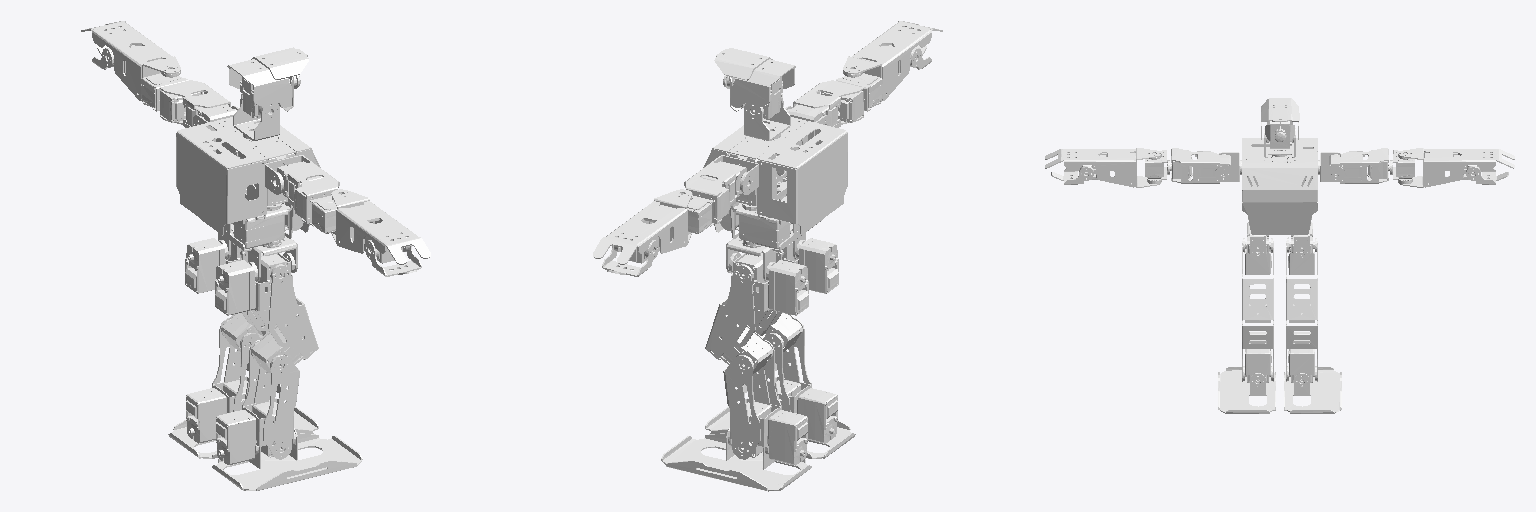
--- What the picture shows (computed from the rendered views, not written in the file) ---
The picture shows the robot from 3 angles, left to right: view 1: azimuth 30°, elevation 25°; view 2: azimuth 150°, elevation 25°; view 3: azimuth 270°, elevation 25°; orthographic projection.
Robot: ainex — 28 links, 27 joints (24 revolute, 3 fixed); root link base_link; default pose: all joints at 0.
Visible links, largest first — view 1: body_link, r_ank_roll_link, r_hip_pitch_link, r_el_yaw_link, head_tilt_link, r_knee_link, l_el_yaw_link, r_hip_roll_link, r_ank_pitch_link, l_sho_roll_link, l_ank_pitch_link, r_sho_roll_link (+10 smaller); view 2: body_link, l_ank_roll_link, l_hip_pitch_link, l_el_yaw_link, head_tilt_link, l_knee_link, r_el_yaw_link, l_hip_roll_link, l_ank_pitch_link, r_sho_roll_link, r_ank_pitch_link, l_sho_roll_link (+10 smaller); view 3: body_link, r_el_yaw_link, l_el_yaw_link, r_ank_roll_link, l_ank_roll_link, l_sho_roll_link, r_sho_roll_link, head_tilt_link, r_hip_pitch_link, l_hip_pitch_link, l_ank_pitch_link, r_ank_pitch_link (+8 smaller).
Link boxes in pixels (<box>): body_link: <box>176,117,320,251</box>; r_ank_roll_link: <box>212,428,362,490</box>; r_hip_pitch_link: <box>247,264,318,373</box>; r_el_yaw_link: <box>331,189,430,264</box>; head_tilt_link: <box>227,47,308,118</box>; r_knee_link: <box>242,340,299,459</box>; l_el_yaw_link: <box>81,21,180,106</box>; r_hip_roll_link: <box>215,253,292,315</box>; r_ank_pitch_link: <box>216,398,293,464</box>; l_sho_roll_link: <box>160,80,235,127</box>; l_ank_pitch_link: <box>186,376,248,443</box>; r_sho_roll_link: <box>277,161,339,223</box>; body_link: <box>703,117,847,251</box>; l_ank_roll_link: <box>661,428,811,491</box>; l_hip_pitch_link: <box>705,264,776,373</box>; l_el_yaw_link: <box>593,189,692,264</box>; head_tilt_link: <box>714,48,795,118</box>; l_knee_link: <box>723,340,781,459</box>; r_el_yaw_link: <box>843,21,942,106</box>; l_hip_roll_link: <box>731,253,808,315</box>; l_ank_pitch_link: <box>730,398,807,465</box>; r_sho_roll_link: <box>788,80,863,127</box>; r_ank_pitch_link: <box>775,377,837,443</box>; l_sho_roll_link: <box>684,161,746,223</box>; body_link: <box>1242,138,1317,234</box>; r_el_yaw_link: <box>1045,148,1161,187</box>; l_el_yaw_link: <box>1398,148,1514,187</box>; r_ank_roll_link: <box>1218,367,1275,413</box>; l_ank_roll_link: <box>1284,367,1341,413</box>; l_sho_roll_link: <box>1329,148,1388,183</box>; r_sho_roll_link: <box>1171,148,1230,183</box>; head_tilt_link: <box>1261,98,1299,148</box>; r_hip_pitch_link: <box>1242,238,1273,322</box>; l_hip_pitch_link: <box>1286,237,1317,322</box>; l_ank_pitch_link: <box>1288,332,1314,382</box>; r_ank_pitch_link: <box>1245,332,1271,382</box>.
Bounding box of the posed robot: 0.1394 × 0.6195 × 0.4144 m (x, y, z).
Meshes: 25 distinct files referenced, 25 mesh visuals loaded (25 binary STL).

URDF robot description (ainex):
<?xml version="1.0" ?>
<!-- =================================================================================== -->
<!-- |    This document was autogenerated by xacro from src/ainex_simulations/ainex_description/urdf/ainex.urdf.xacro | -->
<!-- |    EDITING THIS FILE BY HAND IS NOT RECOMMENDED                                 | -->
<!-- =================================================================================== -->
<robot name="ainex">
  <material name="black">
    <color rgba="0.1 0.1 0.1 1.0"/>
  </material>
  <material name="blue">
    <color rgba="0.0 0.0 0.8 1.0"/>
  </material>
  <material name="green">
    <color rgba="0.4 0.9 0.4 1.0"/>
  </material>
  <material name="gray">
    <color rgba="0.7 0.7 0.7 1.0"/>
  </material>
  <material name="darkgray">
    <color rgba="0.3 0.3 0.3 1.0"/>
  </material>
  <material name="red">
    <color rgba="0.8 0.0 0.0 1.0"/>
  </material>
  <material name="white">
    <color rgba="1.0 1.0 1.0 1.0"/>
  </material>
  <material name="yellow">
    <color rgba="0.8 0.8 0.0 1.0"/>
  </material>
  <transmission name="l_hip_roll_tran">
    <type>transmission_interface/SimpleTransmission</type>
    <joint name="l_hip_roll">
      <hardwareInterface>hardware_interface/EffortJointInterface</hardwareInterface>
    </joint>
    <actuator name="l_hip_roll_motor">
      <hardwareInterface>hardware_interface/EffortJointInterface</hardwareInterface>
      <mechanicalReduction>1</mechanicalReduction>
    </actuator>
  </transmission>
  <transmission name="l_hip_pitch_tran">
    <type>transmission_interface/SimpleTransmission</type>
    <joint name="l_hip_pitch">
      <hardwareInterface>hardware_interface/EffortJointInterface</hardwareInterface>
    </joint>
    <actuator name="l_hip_pitch_motor">
      <hardwareInterface>hardware_interface/EffortJointInterface</hardwareInterface>
      <mechanicalReduction>1</mechanicalReduction>
    </actuator>
  </transmission>
  <transmission name="r_hip_roll_tran">
    <type>transmission_interface/SimpleTransmission</type>
    <joint name="r_hip_roll">
      <hardwareInterface>hardware_interface/EffortJointInterface</hardwareInterface>
    </joint>
    <actuator name="r_hip_roll_motor">
      <hardwareInterface>hardware_interface/EffortJointInterface</hardwareInterface>
      <mechanicalReduction>1</mechanicalReduction>
    </actuator>
  </transmission>
  <transmission name="r_hip_pitch_tran">
    <type>transmission_interface/SimpleTransmission</type>
    <joint name="r_hip_pitch">
      <hardwareInterface>hardware_interface/EffortJointInterface</hardwareInterface>
    </joint>
    <actuator name="r_hip_pitch_motor">
      <hardwareInterface>hardware_interface/EffortJointInterface</hardwareInterface>
      <mechanicalReduction>1</mechanicalReduction>
    </actuator>
  </transmission>
  <transmission name="l_hip_yaw_tran">
    <type>transmission_interface/SimpleTransmission</type>
    <joint name="l_hip_yaw">
      <hardwareInterface>hardware_interface/EffortJointInterface</hardwareInterface>
    </joint>
    <actuator name="l_hip_yaw_motor">
      <hardwareInterface>hardware_interface/EffortJointInterface</hardwareInterface>
      <mechanicalReduction>1</mechanicalReduction>
    </actuator>
  </transmission>
  <transmission name="r_hip_yaw_tran">
    <type>transmission_interface/SimpleTransmission</type>
    <joint name="r_hip_yaw">
      <hardwareInterface>hardware_interface/EffortJointInterface</hardwareInterface>
    </joint>
    <actuator name="r_hip_yaw_motor">
      <hardwareInterface>hardware_interface/EffortJointInterface</hardwareInterface>
      <mechanicalReduction>1</mechanicalReduction>
    </actuator>
  </transmission>
  <transmission name="l_knee_tran">
    <type>transmission_interface/SimpleTransmission</type>
    <joint name="l_knee">
      <hardwareInterface>hardware_interface/EffortJointInterface</hardwareInterface>
    </joint>
    <actuator name="l_knee_motor">
      <hardwareInterface>hardware_interface/EffortJointInterface</hardwareInterface>
      <mechanicalReduction>1</mechanicalReduction>
    </actuator>
  </transmission>
  <transmission name="l_ank_pitch_tran">
    <type>transmission_interface/SimpleTransmission</type>
    <joint name="l_ank_pitch">
      <hardwareInterface>hardware_interface/EffortJointInterface</hardwareInterface>
    </joint>
    <actuator name="l_ank_pitch_motor">
      <hardwareInterface>hardware_interface/EffortJointInterface</hardwareInterface>
      <mechanicalReduction>1</mechanicalReduction>
    </actuator>
  </transmission>
  <transmission name="l_ank_roll_tran">
    <type>transmission_interface/SimpleTransmission</type>
    <joint name="l_ank_roll">
      <hardwareInterface>hardware_interface/EffortJointInterface</hardwareInterface>
    </joint>
    <actuator name="l_ank_roll_motor">
      <hardwareInterface>hardware_interface/EffortJointInterface</hardwareInterface>
      <mechanicalReduction>1</mechanicalReduction>
    </actuator>
  </transmission>
  <transmission name="r_knee_tran">
    <type>transmission_interface/SimpleTransmission</type>
    <joint name="r_knee">
      <hardwareInterface>hardware_interface/EffortJointInterface</hardwareInterface>
    </joint>
    <actuator name="r_knee_motor">
      <hardwareInterface>hardware_interface/EffortJointInterface</hardwareInterface>
      <mechanicalReduction>1</mechanicalReduction>
    </actuator>
  </transmission>
  <transmission name="r_ank_pitch_tran">
    <type>transmission_interface/SimpleTransmission</type>
    <joint name="r_ank_pitch">
      <hardwareInterface>hardware_interface/EffortJointInterface</hardwareInterface>
    </joint>
    <actuator name="r_ank_pitch_motor">
      <hardwareInterface>hardware_interface/EffortJointInterface</hardwareInterface>
      <mechanicalReduction>1</mechanicalReduction>
    </actuator>
  </transmission>
  <transmission name="r_ank_roll_tran">
    <type>transmission_interface/SimpleTransmission</type>
    <joint name="r_ank_roll">
      <hardwareInterface>hardware_interface/EffortJointInterface</hardwareInterface>
    </joint>
    <actuator name="r_ank_roll_motor">
      <hardwareInterface>hardware_interface/EffortJointInterface</hardwareInterface>
      <mechanicalReduction>1</mechanicalReduction>
    </actuator>
  </transmission>
  <transmission name="l_sho_roll_tran">
    <type>transmission_interface/SimpleTransmission</type>
    <joint name="l_sho_roll">
      <hardwareInterface>hardware_interface/EffortJointInterface</hardwareInterface>
    </joint>
    <actuator name="l_sho_roll_motor">
      <hardwareInterface>hardware_interface/EffortJointInterface</hardwareInterface>
      <mechanicalReduction>1</mechanicalReduction>
    </actuator>
  </transmission>
  <transmission name="l_sho_pitch_tran">
    <type>transmission_interface/SimpleTransmission</type>
    <joint name="l_sho_pitch">
      <hardwareInterface>hardware_interface/EffortJointInterface</hardwareInterface>
    </joint>
    <actuator name="l_sho_pitch_motor">
      <hardwareInterface>hardware_interface/EffortJointInterface</hardwareInterface>
      <mechanicalReduction>1</mechanicalReduction>
    </actuator>
  </transmission>
  <transmission name="r_sho_roll_tran">
    <type>transmission_interface/SimpleTransmission</type>
    <joint name="r_sho_roll">
      <hardwareInterface>hardware_interface/EffortJointInterface</hardwareInterface>
    </joint>
    <actuator name="r_sho_roll_motor">
      <hardwareInterface>hardware_interface/EffortJointInterface</hardwareInterface>
      <mechanicalReduction>1</mechanicalReduction>
    </actuator>
  </transmission>
  <transmission name="r_sho_pitch_tran">
    <type>transmission_interface/SimpleTransmission</type>
    <joint name="r_sho_pitch">
      <hardwareInterface>hardware_interface/EffortJointInterface</hardwareInterface>
    </joint>
    <actuator name="r_sho_pitch_motor">
      <hardwareInterface>hardware_interface/EffortJointInterface</hardwareInterface>
      <mechanicalReduction>1</mechanicalReduction>
    </actuator>
  </transmission>
  <transmission name="l_el_yaw_tran">
    <type>transmission_interface/SimpleTransmission</type>
    <joint name="l_el_yaw">
      <hardwareInterface>hardware_interface/EffortJointInterface</hardwareInterface>
    </joint>
    <actuator name="l_el_yaw_motor">
      <hardwareInterface>hardware_interface/EffortJointInterface</hardwareInterface>
      <mechanicalReduction>1</mechanicalReduction>
    </actuator>
  </transmission>
  <transmission name="r_el_yaw_tran">
    <type>transmission_interface/SimpleTransmission</type>
    <joint name="r_el_yaw">
      <hardwareInterface>hardware_interface/EffortJointInterface</hardwareInterface>
    </joint>
    <actuator name="r_el_yaw_motor">
      <hardwareInterface>hardware_interface/EffortJointInterface</hardwareInterface>
      <mechanicalReduction>1</mechanicalReduction>
    </actuator>
  </transmission>
  <transmission name="l_el_pitch_tran">
    <type>transmission_interface/SimpleTransmission</type>
    <joint name="l_el_pitch">
      <hardwareInterface>hardware_interface/EffortJointInterface</hardwareInterface>
    </joint>
    <actuator name="l_el_pitch_motor">
      <hardwareInterface>hardware_interface/EffortJointInterface</hardwareInterface>
      <mechanicalReduction>1</mechanicalReduction>
    </actuator>
  </transmission>
  <transmission name="l_gripper_tran">
    <type>transmission_interface/SimpleTransmission</type>
    <joint name="l_gripper">
      <hardwareInterface>hardware_interface/EffortJointInterface</hardwareInterface>
    </joint>
    <actuator name="l_gripper_motor">
      <hardwareInterface>hardware_interface/EffortJointInterface</hardwareInterface>
      <mechanicalReduction>1</mechanicalReduction>
    </actuator>
  </transmission>
  <transmission name="r_el_pitch_tran">
    <type>transmission_interface/SimpleTransmission</type>
    <joint name="r_el_pitch">
      <hardwareInterface>hardware_interface/EffortJointInterface</hardwareInterface>
    </joint>
    <actuator name="r_el_pitch_motor">
      <hardwareInterface>hardware_interface/EffortJointInterface</hardwareInterface>
      <mechanicalReduction>1</mechanicalReduction>
    </actuator>
  </transmission>
  <transmission name="r_gripper_tran">
    <type>transmission_interface/SimpleTransmission</type>
    <joint name="r_gripper">
      <hardwareInterface>hardware_interface/EffortJointInterface</hardwareInterface>
    </joint>
    <actuator name="r_gripper_motor">
      <hardwareInterface>hardware_interface/EffortJointInterface</hardwareInterface>
      <mechanicalReduction>1</mechanicalReduction>
    </actuator>
  </transmission>
  <transmission name="head_pan_tran">
    <type>transmission_interface/SimpleTransmission</type>
    <joint name="head_pan">
      <hardwareInterface>hardware_interface/EffortJointInterface</hardwareInterface>
    </joint>
    <actuator name="head_pan_motor">
      <hardwareInterface>hardware_interface/EffortJointInterface</hardwareInterface>
      <mechanicalReduction>1</mechanicalReduction>
    </actuator>
  </transmission>
  <transmission name="head_tilt_tran">
    <type>transmission_interface/SimpleTransmission</type>
    <joint name="head_tilt">
      <hardwareInterface>hardware_interface/EffortJointInterface</hardwareInterface>
    </joint>
    <actuator name="head_tilt_motor">
      <hardwareInterface>hardware_interface/EffortJointInterface</hardwareInterface>
      <mechanicalReduction>1</mechanicalReduction>
    </actuator>
  </transmission>
  <link name="base_link"/>
  <joint name="base_link_to_body" type="fixed">
    <parent link="base_link"/>
    <child link="body_link"/>
  </joint>
  <link name="body_link">
    <inertial>
      <origin rpy="0 0 0" xyz="0.00394313682998006 -7.92910841109997E-05 0.0504544952747596"/>
      <mass value="0.743"/>
      <inertia ixx="0.00121619" ixy="0.00000248" ixz="-0.00005348" iyy="0.00104402" iyz="-0.00000200" izz="0.00108564"/>
    </inertial>
    <visual>
      <origin rpy="0 0 0" xyz="0 0 0"/>
      <geometry>
        <mesh filename="package://ainex_description/meshes/body_link.STL"/>
      </geometry>
      <material name="white"/>
    </visual>
    <collision>
      <origin rpy="0 0 0" xyz="0 0 0"/>
      <geometry>
        <mesh filename="package://ainex_description/meshes/body_link.STL"/>
      </geometry>
    </collision>
  </link>
  <link name="r_hip_yaw_link">
    <inertial>
      <origin rpy="0 0 0" xyz="-3.08089321559763E-05 0.0012572746209485 -0.00137106654438882"/>
      <mass value="0.032"/>
      <inertia ixx="0.00001756" ixy="-0.00000028" ixz="-0.00000033" iyy="0.00002270" iyz="0.00000092" izz="0.00000905"/>
    </inertial>
    <visual>
      <origin rpy="0 0 0" xyz="0 0 0"/>
      <geometry>
        <mesh filename="package://ainex_description/meshes/r_hip_yaw_link.STL"/>
      </geometry>
      <material name="white"/>
    </visual>
    <collision>
      <origin rpy="0 0 0" xyz="0 0 0"/>
      <geometry>
        <mesh filename="package://ainex_description/meshes/r_hip_yaw_link.STL"/>
      </geometry>
    </collision>
  </link>
  <joint name="r_hip_yaw" type="revolute">
    <origin rpy="0 0 0" xyz="0 -0.029 0"/>
    <parent link="body_link"/>
    <child link="r_hip_yaw_link"/>
    <axis xyz="0 0 -1"/>
    <limit effort="6" lower="-2.09" upper="2.09" velocity="100"/>
    <dynamics damping="0.02" friction="0.0"/>
  </joint>
  <link name="r_hip_roll_link">
    <inertial>
      <origin rpy="0 0 0" xyz="0.00136240189123019 -0.000566876191787073 -0.0134186815024998"/>
      <mass value="0.120"/>
      <inertia ixx="0.00002918" ixy="-0.00000090" ixz="-0.00000045" iyy="0.00007310" iyz="0.00000000" izz="0.00006050"/>
    </inertial>
    <visual>
      <origin rpy="0 0 0" xyz="0 0 0"/>
      <geometry>
        <mesh filename="package://ainex_description/meshes/r_hip_roll_link.STL"/>
      </geometry>
      <material name="white"/>
    </visual>
    <collision>
      <origin rpy="0 0 0" xyz="0 0 0"/>
      <geometry>
        <mesh filename="package://ainex_description/meshes/r_hip_roll_link.STL"/>
      </geometry>
    </collision>
  </link>
  <joint name="r_hip_roll" type="revolute">
    <origin rpy="0 0 0" xyz="-0.01955 0 -0.0255"/>
    <parent link="r_hip_yaw_link"/>
    <child link="r_hip_roll_link"/>
    <axis xyz="-1 0 0"/>
    <limit effort="6" lower="-2.09" upper="2.09" velocity="100"/>
    <dynamics damping="0.02" friction="0.0"/>
  </joint>
  <link name="r_hip_pitch_link">
    <inertial>
      <origin rpy="0 0 0" xyz="0.0135944229510165 0.0193812364621979 -0.0727053786154678"/>
      <mass value="0.1065"/>
      <inertia ixx="0.00011009" ixy="0.00000025" ixz="-0.00000822" iyy="0.00011292" iyz="0.00000058" izz="0.00004163"/>
    </inertial>
    <visual>
      <origin rpy="0 0 0" xyz="0 0 0"/>
      <geometry>
        <mesh filename="package://ainex_description/meshes/r_hip_pitch_link.STL"/>
      </geometry>
      <material name="white"/>
    </visual>
    <collision>
      <origin rpy="0 0 0" xyz="0 0 0"/>
      <geometry>
        <mesh filename="package://ainex_description/meshes/r_hip_pitch_link.STL"/>
      </geometry>
    </collision>
  </link>
  <joint name="r_hip_pitch" type="revolute">
    <origin rpy="0 0 0" xyz="0.0190366011774447 -0.0200000000007891 0"/>
    <parent link="r_hip_roll_link"/>
    <child link="r_hip_pitch_link"/>
    <axis xyz="0 -1 0"/>
    <limit effort="6" lower="-2.09" upper="2.09" velocity="100"/>
    <dynamics damping="0.02" friction="0.0"/>
  </joint>
  <link name="r_knee_link">
    <inertial>
      <origin rpy="0 0 0" xyz="0.00334266052421815 0.0196473707822286 -0.0425048961212657"/>
      <mass value="0.045"/>
      <inertia ixx="0.00006733" ixy="0.00000005" ixz="0.00000285" iyy="0.00005500" iyz="0.00000000" izz="0.00002073"/>
    </inertial>
    <visual>
      <origin rpy="0 0 0" xyz="0 0 0"/>
      <geometry>
        <mesh filename="package://ainex_description/meshes/r_knee_link.STL"/>
      </geometry>
      <material name="white"/>
    </visual>
    <collision>
      <origin rpy="0 0 0" xyz="0 0 0"/>
      <geometry>
        <mesh filename="package://ainex_description/meshes/r_knee_link.STL"/>
      </geometry>
    </collision>
  </link>
  <joint name="r_knee" type="revolute">
    <origin rpy="0 0 0" xyz="-0.000372039419212393 4.99999999942422E-05 -0.0968862318156413"/>
    <parent link="r_hip_pitch_link"/>
    <child link="r_knee_link"/>
    <axis xyz="0 -1 0"/>
    <limit effort="6" lower="-2.09" upper="2.09" velocity="100"/>
    <dynamics damping="0.02" friction="0.0"/>
  </joint>
  <link name="r_ank_pitch_link">
    <inertial>
      <origin rpy="0 0 0" xyz="-0.0175439564530261 0.0195631980917168 0.0134182145609028"/>
      <mass value="0.120"/>
      <inertia ixx="0.00002920" ixy="-0.00000122" ixz="0.00000047" iyy="0.00007365" iyz="0.00000002" izz="0.00006107"/>
    </inertial>
    <visual>
      <origin rpy="0 0 0" xyz="0 0 0"/>
      <geometry>
        <mesh filename="package://ainex_description/meshes/r_ank_pitch_link.STL"/>
      </geometry>
      <material name="white"/>
    </visual>
    <collision>
      <origin rpy="0 0 0" xyz="0 0 0"/>
      <geometry>
        <mesh filename="package://ainex_description/meshes/r_ank_pitch_link.STL"/>
      </geometry>
    </collision>
  </link>
  <joint name="r_ank_pitch" type="revolute">
    <origin rpy="0 0 0" xyz="0.0010369887037887 0 -0.0890765640232094"/>
    <parent link="r_knee_link"/>
    <child link="r_ank_pitch_link"/>
    <axis xyz="0 1 0"/>
    <limit effort="6" lower="-2.09" upper="2.09" velocity="100"/>
    <dynamics damping="0.02" friction="0.0"/>
  </joint>
  <link name="r_ank_roll_link">
    <inertial>
      <origin rpy="0 0 0" xyz="0.0285084749683582 -0.0128728703698743 -0.0176710108439943"/>
      <mass value="0.0675"/>
      <inertia ixx="0.00004217" ixy="-0.00000108" ixz="-0.00000226" iyy="0.00009246" iyz="0.00000304" izz="0.00012567"/>
    </inertial>
    <visual>
      <origin rpy="0 0 0" xyz="0 0 0"/>
      <geometry>
        <mesh filename="package://ainex_description/meshes/r_ank_roll_link.STL"/>
      </geometry>
      <material name="white"/>
    </visual>
    <collision>
      <origin rpy="0 0 0" xyz="0 0 0"/>
      <geometry>
        <mesh filename="package://ainex_description/meshes/r_ank_roll_link.STL"/>
      </geometry>
    </collision>
  </link>
  <joint name="r_ank_roll" type="revolute">
    <origin rpy="0 0 0" xyz="-0.0190366011761311 0.0199999999998644 0"/>
    <parent link="r_ank_pitch_link"/>
    <child link="r_ank_roll_link"/>
    <axis xyz="1 0 0"/>
    <limit effort="6" lower="-2.09" upper="2.09" velocity="100"/>
    <dynamics damping="0.02" friction="0.0"/>
  </joint>
  <link name="l_hip_yaw_link">
    <inertial>
      <origin rpy="0 0 0" xyz="-3.11405684236766E-05 -0.00125722452663508 -0.00137130106826952"/>
      <mass value="0.032"/>
      <inertia ixx="0.00001756" ixy="0.000000288" ixz="-0.00000033" iyy="0.00002270" iyz="-0.00000092" izz="0.00000905"/>
    </inertial>
    <visual>
      <origin rpy="0 0 0" xyz="0 0 0"/>
      <geometry>
        <mesh filename="package://ainex_description/meshes/l_hip_yaw_link.STL"/>
      </geometry>
      <material name="white"/>
    </visual>
    <collision>
      <origin rpy="0 0 0" xyz="0 0 0"/>
      <geometry>
        <mesh filename="package://ainex_description/meshes/l_hip_yaw_link.STL"/>
      </geometry>
    </collision>
  </link>
  <joint name="l_hip_yaw" type="revolute">
    <origin rpy="0 0 0" xyz="0 0.029 0"/>
    <parent link="body_link"/>
    <child link="l_hip_yaw_link"/>
    <axis xyz="0 0 -1"/>
    <limit effort="6" lower="-2.09" upper="2.09" velocity="100"/>
    <dynamics damping="0.02" friction="0.0"/>
  </joint>
  <link name="l_hip_roll_link">
    <inertial>
      <origin rpy="0 0 0" xyz="0.00136238689917259 0.000566861270169111 -0.0134186827123954"/>
      <mass value="0.120"/>
      <inertia ixx="0.00002918" ixy="0.00000090" ixz="-0.00000045" iyy="0.00007310" iyz="0.00000000" izz="0.00006050"/>
    </inertial>
    <visual>
      <origin rpy="0 0 0" xyz="0 0 0"/>
      <geometry>
        <mesh filename="package://ainex_description/meshes/l_hip_roll_link.STL"/>
      </geometry>
      <material name="white"/>
    </visual>
    <collision>
      <origin rpy="0 0 0" xyz="0 0 0"/>
      <geometry>
        <mesh filename="package://ainex_description/meshes/l_hip_roll_link.STL"/>
      </geometry>
    </collision>
  </link>
  <joint name="l_hip_roll" type="revolute">
    <origin rpy="0 0 0" xyz="-0.01955 0 -0.0255"/>
    <parent link="l_hip_yaw_link"/>
    <child link="l_hip_roll_link"/>
    <axis xyz="-1 0 0"/>
    <limit effort="6" lower="-2.09" upper="2.09" velocity="100"/>
    <dynamics damping="0.02" friction="0.0"/>
  </joint>
  <link name="l_hip_pitch_link">
    <inertial>
      <origin rpy="0 0 0" xyz="0.0135944002953011 -0.0193811742069665 -0.072705130428188"/>
      <mass value="0.1065"/>
      <inertia ixx="0.00011009" ixy="-0.00000025" ixz="-0.00000822" iyy="0.00011292" iyz="-0.00000058" izz="0.00004163"/>
    </inertial>
    <visual>
      <origin rpy="0 0 0" xyz="0 0 0"/>
      <geometry>
        <mesh filename="package://ainex_description/meshes/l_hip_pitch_link.STL"/>
      </geometry>
      <material name="white"/>
    </visual>
    <collision>
      <origin rpy="0 0 0" xyz="0 0 0"/>
      <geometry>
        <mesh filename="package://ainex_description/meshes/l_hip_pitch_link.STL"/>
      </geometry>
    </collision>
  </link>
  <joint name="l_hip_pitch" type="revolute">
    <origin rpy="0 0 0" xyz="0.019037 0.02 0"/>
    <parent link="l_hip_roll_link"/>
    <child link="l_hip_pitch_link"/>
    <axis xyz="0 1 0"/>
    <limit effort="6" lower="-2.09" upper="2.09" velocity="100"/>
    <dynamics damping="0.02" friction="0.0"/>
  </joint>
  <link name="l_knee_link">
    <inertial>
      <origin rpy="0 0 0" xyz="0.00334255585606658 -0.0196465200672246 -0.0425052792592038"/>
      <mass value="0.045"/>
      <inertia ixx="0.00006733" ixy="-0.00000004" ixz="0.00000285" iyy="0.00005500" iyz="0.00000000" izz="0.00002073"/>
    </inertial>
    <visual>
      <origin rpy="0 0 0" xyz="0 0 0"/>
      <geometry>
        <mesh filename="package://ainex_description/meshes/l_knee_link.STL"/>
      </geometry>
      <material name="white"/>
    </visual>
    <collision>
      <origin rpy="0 0 0" xyz="0 0 0"/>
      <geometry>
        <mesh filename="package://ainex_description/meshes/l_knee_link.STL"/>
      </geometry>
    </collision>
  </link>
  <joint name="l_knee" type="revolute">
    <origin rpy="0 0 0" xyz="-0.00037204 -5E-05 -0.096886"/>
    <parent link="l_hip_pitch_link"/>
    <child link="l_knee_link"/>
    <axis xyz="0 1 0"/>
    <limit effort="6" lower="-2.09" upper="2.09" velocity="100"/>
    <dynamics damping="0.02" friction="0.0"/>
  </joint>
  <link name="l_ank_pitch_link">
    <inertial>
      <origin rpy="0 0 0" xyz="-0.0175439606215995 -0.0195632128037413 0.0134182214254433"/>
      <mass value="0.120"/>
      <inertia ixx="0.00002920" ixy="0.00000122" ixz="0.00000047" iyy="0.00007365" iyz="-0.00000002" izz="0.00006107"/>
    </inertial>
    <visual>
      <origin rpy="0 0 0" xyz="0 0 0"/>
      <geometry>
        <mesh filename="package://ainex_description/meshes/l_ank_pitch_link.STL"/>
      </geometry>
      <material name="white"/>
    </visual>
    <collision>
      <origin rpy="0 0 0" xyz="0 0 0"/>
      <geometry>
        <mesh filename="package://ainex_description/meshes/l_ank_pitch_link.STL"/>
      </geometry>
    </collision>
  </link>
  <joint name="l_ank_pitch" type="revolute">
    <origin rpy="0 0 0" xyz="0.001037 0 -0.089077"/>
    <parent link="l_knee_link"/>
    <child link="l_ank_pitch_link"/>
    <axis xyz="0 -1 0"/>
    <limit effort="6" lower="-2.09" upper="2.09" velocity="100"/>
    <dynamics damping="0.02" friction="0.0"/>
  </joint>
  <link name="l_ank_roll_link">
    <inertial>
      <origin rpy="0 0 0" xyz="0.028508 0.012873 -0.017671"/>
      <mass value="0.0675"/>
      <inertia ixx="0.00004217" ixy="0.00000108" ixz="-0.00000226" iyy="0.00009246" iyz="-0.00000304" izz="0.00012567"/>
    </inertial>
    <visual>
      <origin rpy="0 0 0" xyz="0 0 0"/>
      <geometry>
        <mesh filename="package://ainex_description/meshes/l_ank_roll_link.STL"/>
      </geometry>
      <material name="white"/>
    </visual>
    <collision>
      <origin rpy="0 0 0" xyz="0 0 0"/>
      <geometry>
        <mesh filename="package://ainex_description/meshes/l_ank_roll_link.STL"/>
      </geometry>
    </collision>
  </link>
  <joint name="l_ank_roll" type="revolute">
    <origin rpy="0 0 0" xyz="-0.019037 -0.02 0"/>
    <parent link="l_ank_pitch_link"/>
    <child link="l_ank_roll_link"/>
    <axis xyz="1 0 0"/>
    <limit effort="6" lower="-2.09" upper="2.09" velocity="100"/>
    <dynamics damping="0.02" friction="0.0"/>
  </joint>
  <link name="head_pan_link">
    <inertial>
      <origin rpy="0 0 0" xyz="0.00549413614691534 0.000156599066327573 0.0141339256886725"/>
      <mass value="0.00767349443930606"/>
      <inertia ixx="2.11767311265303E-06" ixy="1.34870612877854E-11" ixz="-1.4437789878239E-07" iyy="9.86662751533161E-07" iyz="4.73071759311514E-11" izz="1.8352106338847E-06"/>
    </inertial>
    <visual>
      <origin rpy="0 0 0" xyz="0 0 0"/>
      <geometry>
        <mesh filename="package://ainex_description/meshes/head_pan_link.STL"/>
      </geometry>
      <material name="white"/>
    </visual>
    <collision>
      <origin rpy="0 0 0" xyz="0 0 0"/>
      <geometry>
        <mesh filename="package://ainex_description/meshes/head_pan_link.STL"/>
      </geometry>
    </collision>
  </link>
  <joint name="head_pan" type="revolute">
    <origin rpy="0 0 0" xyz="-0.00410029363273529 0 0.107800000000251"/>
    <parent link="body_link"/>
    <child link="head_pan_link"/>
    <axis xyz="0 0 -1"/>
    <limit effort="6" lower="-2.09" upper="2.09" velocity="100"/>
    <dynamics damping="0.02" friction="0.0"/>
  </joint>
  <link name="head_tilt_link">
    <inertial>
      <origin rpy="0 0 0" xyz="0.0113381465890742 0.0189172536781822 0.0221227280632388"/>
      <mass value="0.026224916296902"/>
      <inertia ixx="6.19728230918923E-06" ixy="5.21591430621001E-09" ixz="8.03962376862465E-07" iyy="6.32347395622384E-06" iyz="-2.0606717121074E-08" izz="6.90141230136629E-06"/>
    </inertial>
    <visual>
      <origin rpy="0 0 0" xyz="0 0 0"/>
      <geometry>
        <mesh filename="package://ainex_description/meshes/head_tilt_link.STL"/>
      </geometry>
      <material name="white"/>
    </visual>
    <collision>
      <origin rpy="0 0 0" xyz="0 0 0"/>
      <geometry>
        <mesh filename="package://ainex_description/meshes/head_tilt_link.STL"/>
      </geometry>
    </collision>
  </link>
  <joint name="head_tilt" type="revolute">
    <origin rpy="0 0 0" xyz="0.00904594549071587 -0.0185733521405788 0.0281579437975029"/>
    <parent link="head_pan_link"/>
    <child link="head_tilt_link"/>
    <axis xyz="0 -1 0"/>
    <limit effort="6" lower="-2.09" upper="2.09" velocity="100"/>
    <dynamics damping="0.02" friction="0.0"/>
  </joint>
  <link name="camera_link">
  </link>
  <joint name="camera" type="fixed">
    <origin rpy="0 0 0" xyz="0.0430140359009206 0 0.152356120938238"/>
    <parent link="body_link"/>
    <child link="camera_link"/>
    <axis xyz="0 0 0"/>
  </joint>
  <link name="imu_link">
  </link>
  <joint name="imu" type="fixed">
    <origin rpy="1.5707963267948966 0 -1.5707963267948966" xyz="-0.0459897867959335 -0.0100999999918824 0.0702999210083745"/>
    <parent link="body_link"/>
    <child link="imu_link"/>
    <axis xyz="0 0 0"/>
  </joint>
  <link name="r_sho_pitch_link">
    <inertial>
      <origin rpy="0 0 0" xyz="0.000375793263921053 -0.0113306723078783 2.09985517302114E-06"/>
      <mass value="0.0128"/>
      <inertia ixx="0.00000205" ixy="-0.00000005" ixz="0.00000000" iyy="0.00000390" iyz="0.00000000" izz="0.00000503"/>
    </inertial>
    <visual>
      <origin rpy="0 0 0" xyz="0 0 0"/>
      <geometry>
        <mesh filename="package://ainex_description/meshes/r_sho_pitch_link.STL"/>
      </geometry>
      <material name="white"/>
    </visual>
    <collision>
      <origin rpy="0 0 0" xyz="0 0 0"/>
      <geometry>
        <mesh filename="package://ainex_description/meshes/r_sho_pitch_link.STL"/>
      </geometry>
    </collision>
  </link>
  <joint name="r_sho_pitch" type="revolute">
    <origin rpy="0 0 0" xyz="-5.46273713767254E-05 -0.0524909514103703 0.0874480463620076"/>
    <parent link="body_link"/>
    <child link="r_sho_pitch_link"/>
    <axis xyz="0 -1 0"/>
    <limit effort="6" lower="-2.09" upper="2.09" velocity="100"/>
    <dynamics damping="0.0" friction="0.2"/>
  </joint>
  <link name="r_sho_roll_link">
    <inertial>
      <origin rpy="0 0 0" xyz="-0.0205037633090526 -0.0278387909859685 -6.10732337563702E-05"/>
      <mass value="0.121"/>
      <inertia ixx="0.00007300" ixy="0.00000868" ixz="-0.00000005" iyy="0.00002527" iyz="-0.00000018" izz="0.00007539"/>
    </inertial>
    <visual>
      <origin rpy="0 0 0" xyz="0 0 0"/>
      <geometry>
        <mesh filename="package://ainex_description/meshes/r_sho_roll_link.STL"/>
      </geometry>
      <material name="white"/>
    </visual>
    <collision>
      <origin rpy="0 0 0" xyz="0 0 0"/>
      <geometry>
        <mesh filename="package://ainex_description/meshes/r_sho_roll_link.STL"/>
      </geometry>
    </collision>
  </link>
  <joint name="r_sho_roll" type="revolute">
    <origin rpy="0 0 0" xyz="0.020003499818653 -0.021505961295104 0"/>
    <parent link="r_sho_pitch_link"/>
    <child link="r_sho_roll_link"/>
    <axis xyz="1 0 0"/>
    <limit effort="6" lower="-2.09" upper="2.09" velocity="100"/>
    <dynamics damping="0.0" friction="0.2"/>
  </joint>
  <link name="r_el_pitch_link">
    <inertial>
      <origin rpy="0 0 0" xyz="-0.00697552928269531 -0.0128963887344756 0.000205170639759389"/>
      <mass value="0.045"/>
      <inertia ixx="0.00000797" ixy="0.00000065" ixz="-0.00000015" iyy="0.00000830" iyz="-0.00000005" izz="0.00001053"/>
    </inertial>
    <visual>
      <origin rpy="0 0 0" xyz="0 0 0"/>
      <geometry>
        <mesh filename="package://ainex_description/meshes/r_el_pitch_link.STL"/>
      </geometry>
      <material name="white"/>
    </visual>
    <collision>
      <origin rpy="0 0 0" xyz="0 0 0"/>
      <geometry>
        <mesh filename="package://ainex_description/meshes/r_el_pitch_link.STL"/>
      </geometry>
    </collision>
  </link>
  <joint name="r_el_pitch" type="revolute">
    <origin rpy="0 0 0" xyz="-0.0200034998200733 -0.0741099367526448 0"/>
    <parent link="r_sho_roll_link"/>
    <child link="r_el_pitch_link"/>
    <axis xyz="0 -1 0"/>
    <limit effort="6" lower="-2.09" upper="2.09" velocity="100"/>
    <dynamics damping="0.0" friction="0.2"/>
  </joint>
  <link name="r_el_yaw_link">
    <inertial>
      <origin rpy="0 0 0" xyz="-0.000228558886795894 -0.0572724286301637 -0.0138716339425995"/>
      <mass value="0.102"/>
      <inertia ixx="0.00014320" ixy="0.00000030" ixz="-0.00000003" iyy="0.00003101" iyz="-0.00001329" izz="0.00014052"/>
    </inertial>
    <visual>
      <origin rpy="0 0 0" xyz="0 0 0"/>
      <geometry>
        <mesh filename="package://ainex_description/meshes/r_el_yaw_link.STL"/>
      </geometry>
      <material name="white"/>
    </visual>
    <collision>
      <origin rpy="0 0 0" xyz="0 0 0"/>
      <geometry>
        <mesh filename="package://ainex_description/meshes/r_el_yaw_link.STL"/>
      </geometry>
    </collision>
  </link>
  <joint name="r_el_yaw" type="revolute">
    <origin rpy="0 0 0" xyz="0.000397813054181526 -0.0170183162715326 0.0190701823981362"/>
    <parent link="r_el_pitch_link"/>
    <child link="r_el_yaw_link"/>
    <axis xyz="0 0 1"/>
    <limit effort="6" lower="-2.09" upper="2.09" velocity="100"/>
    <dynamics damping="0.0" friction="0.2"/>
  </joint>
  <link name="r_gripper_link">
    <inertial>
      <origin rpy="0 0 0" xyz="-0.0193851146126543 -0.00931114583486287 -0.00543047681687003"/>
      <mass value="0.0135"/>
      <inertia ixx="0.00000328" ixy="-0.00000003" ixz="-0.00000002" iyy="0.00000451" iyz="0.00000105" izz="0.00000597"/>
    </inertial>
    <visual>
      <origin rpy="0 0 0" xyz="0 0 0"/>
      <geometry>
        <mesh filename="package://ainex_description/meshes/r_gripper_link.STL"/>
      </geometry>
      <material name="white"/>
    </visual>
    <collision>
      <origin rpy="0 0 0" xyz="0 0 0"/>
      <geometry>
        <mesh filename="package://ainex_description/meshes/r_gripper_link.STL"/>
      </geometry>
    </collision>
  </link>
  <joint name="r_gripper" type="revolute">
    <origin rpy="0 0 0" xyz="0.0198901817590543 -0.0892355537647637 -0.0190701818667893"/>
    <parent link="r_el_yaw_link"/>
    <child link="r_gripper_link"/>
    <axis xyz="1 0 0"/>
    <limit effort="6" lower="-2.09" upper="2.09" velocity="100"/>
    <dynamics damping="0.0" friction="0.2"/>
  </joint>
  <link name="l_sho_pitch_link">
    <inertial>
      <origin rpy="0 0 0" xyz="0.000375774140906853 0.0113303353403952 1.96336840385669E-06"/>
      <mass value="0.0128"/>
      <inertia ixx="0.00000205" ixy="0.00000005" ixz="0.00000000" iyy="0.00000390" iyz="0.00000000" izz="0.00000503"/>
    </inertial>
    <visual>
      <origin rpy="0 0 0" xyz="0 0 0"/>
      <geometry>
        <mesh filename="package://ainex_description/meshes/l_sho_pitch_link.STL"/>
      </geometry>
      <material name="white"/>
    </visual>
    <collision>
      <origin rpy="0 0 0" xyz="0 0 0"/>
      <geometry>
        <mesh filename="package://ainex_description/meshes/l_sho_pitch_link.STL"/>
      </geometry>
    </collision>
  </link>
  <joint name="l_sho_pitch" type="revolute">
    <origin rpy="0 0 0" xyz="-5.4627E-05 0.052491 0.087448"/>
    <parent link="body_link"/>
    <child link="l_sho_pitch_link"/>
    <axis xyz="0 -1 0"/>
    <limit effort="6" lower="-2.09" upper="2.09" velocity="100"/>
    <dynamics damping="0.0" friction="0.2"/>
  </joint>
  <link name="l_sho_roll_link">
    <inertial>
      <origin rpy="0 0 0" xyz="-0.020504 0.027838 -6.0431E-05"/>
      <mass value="0.121"/>
      <inertia ixx="0.00007300" ixy="-0.00000868" ixz="-0.00000005" iyy="0.00002527" iyz="0.00000018" izz="0.00007539"/>
    </inertial>
    <visual>
      <origin rpy="0 0 0" xyz="0 0 0"/>
      <geometry>
        <mesh filename="package://ainex_description/meshes/l_sho_roll_link.STL"/>
      </geometry>
      <material name="white"/>
    </visual>
    <collision>
      <origin rpy="0 0 0" xyz="0 0 0"/>
      <geometry>
        <mesh filename="package://ainex_description/meshes/l_sho_roll_link.STL"/>
      </geometry>
    </collision>
  </link>
  <joint name="l_sho_roll" type="revolute">
    <origin rpy="0 0 0" xyz="0.020003 0.021507 0"/>
    <parent link="l_sho_pitch_link"/>
    <child link="l_sho_roll_link"/>
    <axis xyz="1 0 0"/>
    <limit effort="6" lower="-2.09" upper="2.09" velocity="100"/>
    <dynamics damping="0.0" friction="0.2"/>
  </joint>
  <link name="l_el_pitch_link">
    <inertial>
      <origin rpy="0 0 0" xyz="-0.0069756 0.012896 0.0002073"/>
      <mass value="0.045"/>
      <inertia ixx="0.00000797" ixy="-0.00000065" ixz="-0.00000015" iyy="0.00000830" iyz="0.00000005" izz="0.00001053"/>
    </inertial>
    <visual>
      <origin rpy="0 0 0" xyz="0 0 0"/>
      <geometry>
        <mesh filename="package://ainex_description/meshes/l_el_pitch_link.STL"/>
      </geometry>
      <material name="white"/>
    </visual>
    <collision>
      <origin rpy="0 0 0" xyz="0 0 0"/>
      <geometry>
        <mesh filename="package://ainex_description/meshes/l_el_pitch_link.STL"/>
      </geometry>
    </collision>
  </link>
  <joint name="l_el_pitch" type="revolute">
    <origin rpy="0 0 0" xyz="-0.020003 0.074109 0"/>
    <parent link="l_sho_roll_link"/>
    <child link="l_el_pitch_link"/>
    <axis xyz="0 -1 0"/>
    <limit effort="6" lower="-2.09" upper="2.09" velocity="100"/>
    <dynamics damping="0.0" friction="0.2"/>
  </joint>
  <link name="l_el_yaw_link">
    <inertial>
      <origin rpy="0 0 0" xyz="-0.000225830045360985 0.0572711814760597 -0.013870295638648"/>
      <mass value="0.102"/>
      <inertia ixx="0.00014320" ixy="-0.00000030" ixz="-0.00000003" iyy="0.00003101" iyz="0.00001329" izz="0.00014052"/>
    </inertial>
    <visual>
      <origin rpy="0 0 0" xyz="0 0 0"/>
      <geometry>
        <mesh filename="package://ainex_description/meshes/l_el_yaw_link.STL"/>
      </geometry>
      <material name="white"/>
    </visual>
    <collision>
      <origin rpy="0 0 0" xyz="0 0 0"/>
      <geometry>
        <mesh filename="package://ainex_description/meshes/l_el_yaw_link.STL"/>
      </geometry>
    </collision>
  </link>
  <joint name="l_el_yaw" type="revolute">
    <origin rpy="0 0 0" xyz="0.00039506 0.017019 0.019072"/>
    <parent link="l_el_pitch_link"/>
    <child link="l_el_yaw_link"/>
    <axis xyz="0 0 1"/>
    <limit effort="6" lower="-2.09" upper="2.09" velocity="100"/>
    <dynamics damping="0.0" friction="0.2"/>
  </joint>
  <link name="l_gripper_link">
    <inertial>
      <origin rpy="0 0 0" xyz="-0.019384 0.0093137 -0.005426"/>
      <mass value="0.0135"/>
      <inertia ixx="0.00000328" ixy="0.00000003" ixz="-0.00000002" iyy="0.00000451" iyz="-0.00000105" izz="0.00000597"/>
    </inertial>
    <visual>
      <origin rpy="0 0 0" xyz="0 0 0"/>
      <geometry>
        <mesh filename="package://ainex_description/meshes/l_gripper_link.STL"/>
      </geometry>
      <material name="white"/>
    </visual>
    <collision>
      <origin rpy="0 0 0" xyz="0 0 0"/>
      <geometry>
        <mesh filename="package://ainex_description/meshes/l_gripper_link.STL"/>
      </geometry>
    </collision>
  </link>
  <joint name="l_gripper" type="revolute">
    <origin rpy="0 0 0" xyz="0.019893 0.089232 -0.019072"/>
    <parent link="l_el_yaw_link"/>
    <child link="l_gripper_link"/>
    <axis xyz="1 0 0"/>
    <limit effort="6" lower="-2.09" upper="2.09" velocity="100"/>
    <dynamics damping="0.0" friction="0.2"/>
  </joint>
</robot>
